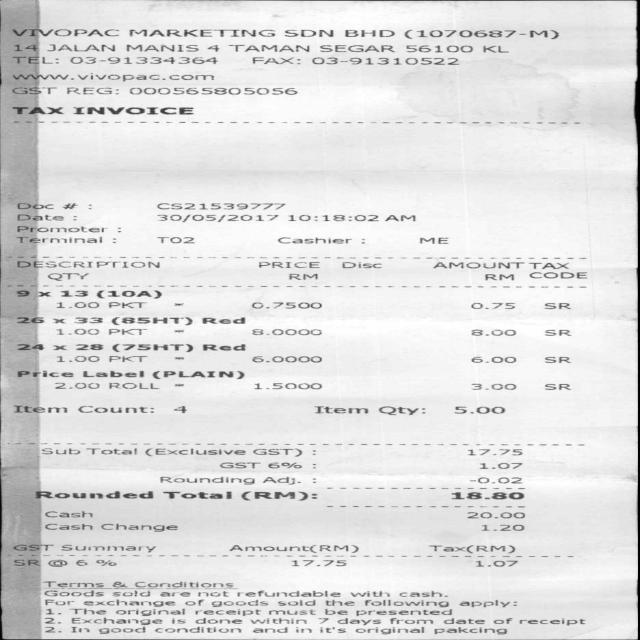text: (11, 73, 213, 81), (403, 29, 558, 39), (69, 56, 217, 64), (311, 57, 458, 65), (17, 260, 160, 268), (71, 106, 193, 115), (228, 545, 358, 553), (128, 29, 273, 36), (127, 88, 296, 94), (156, 214, 278, 222), (34, 491, 153, 499), (151, 370, 244, 379), (145, 448, 245, 456), (156, 203, 284, 209), (159, 476, 254, 484), (60, 544, 155, 552), (10, 29, 118, 36), (111, 343, 193, 352), (82, 599, 174, 607), (70, 617, 161, 625), (428, 545, 515, 553), (100, 523, 177, 532), (240, 491, 316, 500), (364, 599, 448, 607), (355, 609, 450, 616), (227, 44, 309, 52), (111, 317, 192, 325), (236, 590, 340, 596), (15, 236, 104, 243), (132, 582, 232, 588), (78, 405, 152, 413), (15, 226, 107, 232), (115, 608, 184, 616), (55, 302, 146, 308), (162, 491, 230, 499), (288, 215, 378, 221), (432, 262, 522, 268), (449, 492, 524, 499), (320, 45, 394, 52), (96, 290, 160, 298), (433, 627, 506, 634), (155, 626, 240, 632), (126, 44, 198, 51), (45, 44, 114, 51), (353, 627, 422, 634), (254, 382, 321, 389), (210, 599, 268, 607), (406, 45, 472, 52), (519, 618, 585, 625), (458, 599, 515, 607), (195, 609, 260, 616), (276, 237, 351, 243), (81, 370, 143, 377), (41, 581, 103, 588), (9, 106, 62, 114), (258, 261, 318, 268), (251, 302, 321, 308), (251, 356, 321, 362), (252, 329, 321, 335), (378, 406, 424, 415), (252, 448, 302, 456), (249, 617, 306, 624), (10, 56, 58, 64), (12, 405, 66, 412), (314, 406, 368, 413), (97, 626, 144, 634), (66, 87, 118, 94), (453, 406, 505, 413), (43, 590, 103, 596), (344, 30, 394, 37), (465, 512, 523, 518), (251, 57, 300, 64), (109, 382, 158, 389), (529, 272, 586, 278), (284, 29, 332, 36), (15, 214, 63, 221), (44, 511, 92, 518), (17, 371, 72, 377), (290, 560, 345, 566), (194, 617, 241, 624), (47, 273, 88, 281), (467, 449, 521, 455), (469, 477, 522, 483), (11, 87, 56, 94), (469, 302, 514, 309), (480, 524, 524, 531), (388, 617, 432, 624), (201, 317, 244, 324), (337, 618, 380, 625), (85, 448, 135, 454), (527, 262, 569, 269), (398, 590, 447, 596), (443, 617, 485, 624), (44, 523, 92, 529), (268, 609, 315, 615), (107, 328, 146, 335), (471, 330, 516, 336), (471, 383, 516, 389), (262, 477, 300, 484), (56, 356, 100, 362), (54, 382, 98, 388), (201, 344, 244, 350), (479, 462, 522, 468), (474, 560, 517, 566), (56, 328, 98, 334), (11, 544, 53, 550), (155, 237, 195, 243), (219, 462, 259, 468), (40, 448, 79, 454), (276, 600, 315, 606), (342, 262, 380, 268), (109, 356, 147, 362), (111, 590, 149, 596), (471, 357, 516, 362), (416, 237, 448, 244), (68, 608, 105, 614), (16, 203, 52, 209), (252, 626, 287, 632), (268, 462, 302, 468), (350, 591, 389, 596), (60, 290, 87, 297), (544, 356, 570, 363), (384, 215, 414, 221), (484, 274, 514, 280), (44, 599, 74, 605), (324, 600, 354, 606), (15, 317, 44, 323), (288, 274, 316, 280), (74, 317, 102, 323), (74, 344, 102, 350), (16, 344, 44, 350), (544, 384, 571, 390), (13, 44, 36, 51), (544, 303, 570, 309), (544, 330, 570, 336), (12, 560, 38, 566), (319, 627, 345, 633), (483, 46, 508, 52), (323, 608, 348, 614), (197, 591, 226, 596), (158, 592, 190, 596), (493, 617, 511, 624), (94, 560, 114, 566), (184, 599, 204, 605), (172, 405, 186, 413), (48, 560, 66, 566), (44, 608, 60, 614), (44, 617, 60, 623), (295, 627, 311, 633), (35, 291, 50, 297), (110, 582, 125, 588), (70, 627, 88, 632), (14, 290, 28, 296), (44, 627, 60, 632), (62, 203, 75, 209), (206, 45, 218, 51), (75, 560, 86, 566), (172, 618, 185, 623), (52, 319, 66, 323), (52, 345, 63, 350), (318, 618, 327, 623), (174, 356, 183, 359), (175, 303, 182, 306), (174, 330, 183, 332), (174, 384, 183, 386)
